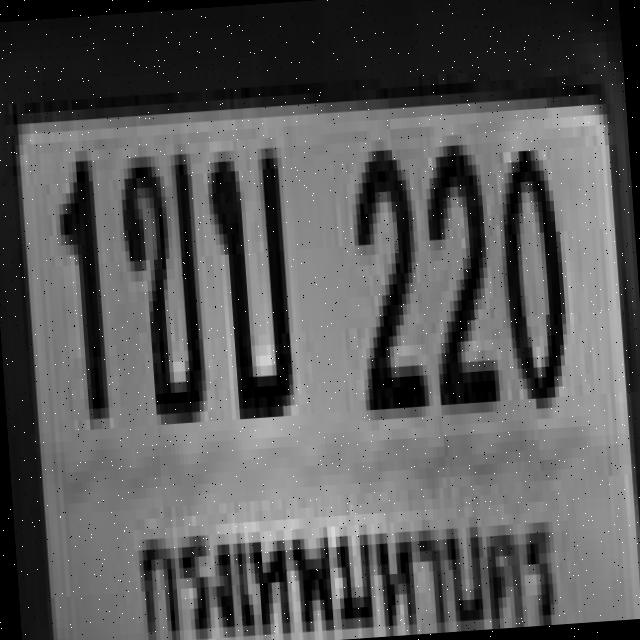0: (494, 138, 567, 400)
1: (51, 150, 104, 410)
11KhorKhai: (114, 143, 204, 416)
2: (347, 138, 421, 410), (418, 133, 492, 405)
35BorBaiMai: (200, 137, 290, 410)
Bangkok: (115, 468, 571, 640)
